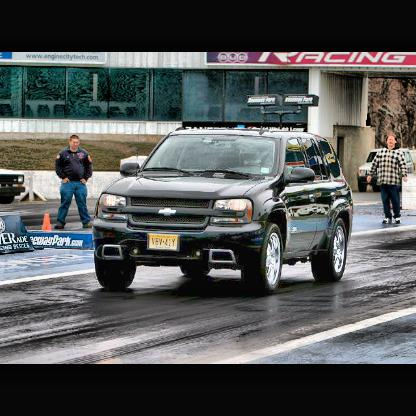Chevrolet TrailBlazer SS 2009: (94, 127, 355, 296)
